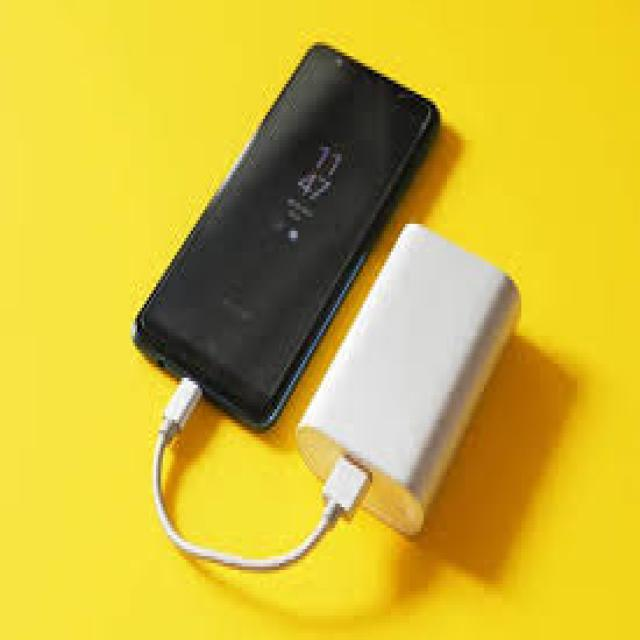portable-charger: (292, 219, 525, 544)
